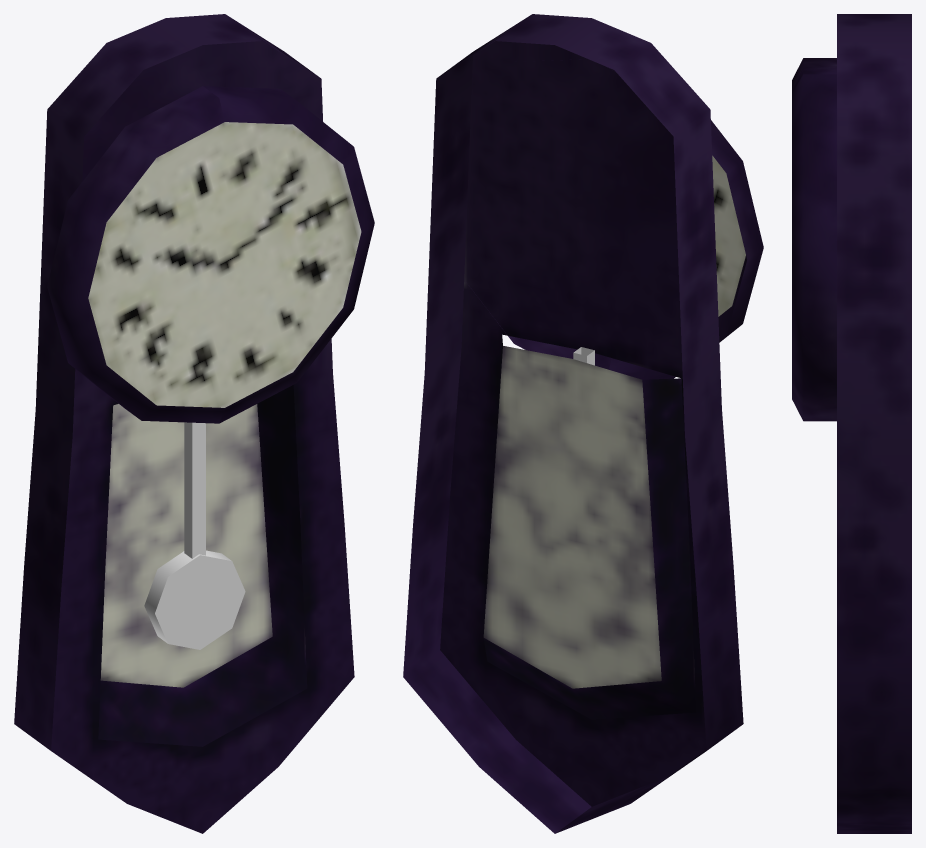
The model's file is clockPendulumWall.fbx.
3 renders of one model, left to right at view 1: azimuth 30°, elevation 25°; view 2: azimuth 150°, elevation 25°; view 3: azimuth 270°, elevation 25°, orthographic.
Parts seen in each view (by area): view 1: ClockWall, ClockWalPendulum; view 2: ClockWall; view 3: ClockWall.
Boxes of the visible parts, x1=… form: ClockWall: x1=14, y1=14, x2=374, y2=833; ClockWalPendulum: x1=144, y1=422, x2=245, y2=649; ClockWall: x1=403, y1=14, x2=763, y2=833; ClockWall: x1=792, y1=14, x2=911, y2=833.
Bounding box in the file's own units: 262 × 635 × 86.18.
Materials: 1 (1 with a texture image).
